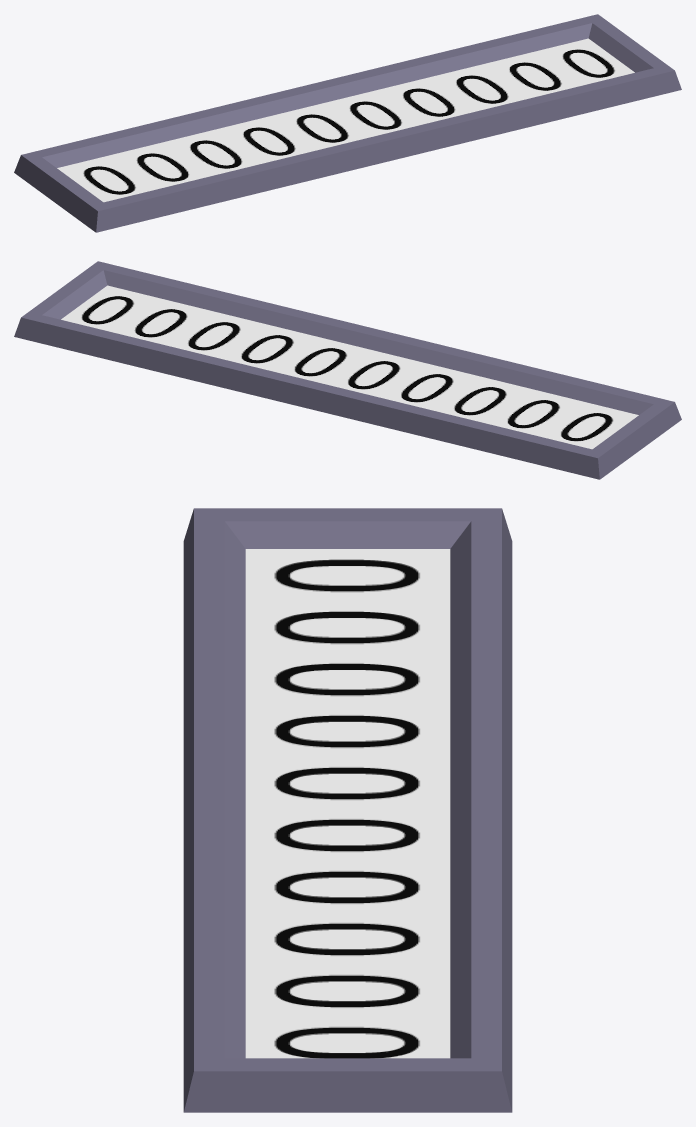
Rendered from DigitalDisplay.dae.
The picture shows the model from 3 angles, top to bottom: view 1: azimuth 30°, elevation 25°; view 2: azimuth 150°, elevation 25°; view 3: azimuth 270°, elevation 25°; orthographic projection. The views are drawn at different scales.
Parts seen in each view (by area): view 1: Frame, num_06, num_02, num_01, num_04, num_07, num_03, num_00, num_05, num_08, num_09; view 2: Frame, num_06, num_02, num_01, num_04, num_07, num_03, num_00, num_05, num_08, num_09; view 3: Frame, num_06, num_04, num_05, num_07, num_03, num_02, num_08, num_01, num_09, num_00.
Part boxes in pixels (x1,y1,x2,y2): Frame: (14, 14, 681, 232); num_06: (216, 116, 315, 163); num_02: (429, 64, 528, 111); num_01: (482, 51, 581, 98); num_04: (322, 90, 421, 137); num_07: (163, 129, 261, 176); num_03: (376, 77, 474, 124); num_00: (535, 38, 634, 85); num_05: (269, 103, 368, 150); num_08: (110, 142, 208, 189); num_09: (57, 155, 155, 202); Frame: (14, 261, 681, 479); num_06: (380, 363, 479, 410); num_02: (167, 311, 266, 358); num_01: (114, 298, 213, 345); num_04: (274, 337, 373, 384); num_07: (434, 376, 532, 423); num_03: (221, 324, 319, 371); num_00: (61, 285, 160, 332); num_05: (327, 350, 426, 397); num_08: (487, 389, 585, 436); num_09: (540, 402, 638, 449); Frame: (183, 508, 512, 1112); num_06: (245, 704, 450, 756); num_04: (245, 808, 450, 860); num_05: (245, 756, 450, 808); num_07: (245, 652, 450, 704); num_03: (245, 860, 450, 912); num_02: (245, 912, 450, 964); num_08: (245, 600, 450, 652); num_01: (245, 964, 450, 1016); num_09: (245, 549, 450, 600); num_00: (245, 1016, 450, 1058).
Size of the model in its own units: 66.03 by 16.03 by 2.
Materials: 2 (1 with a texture image).
